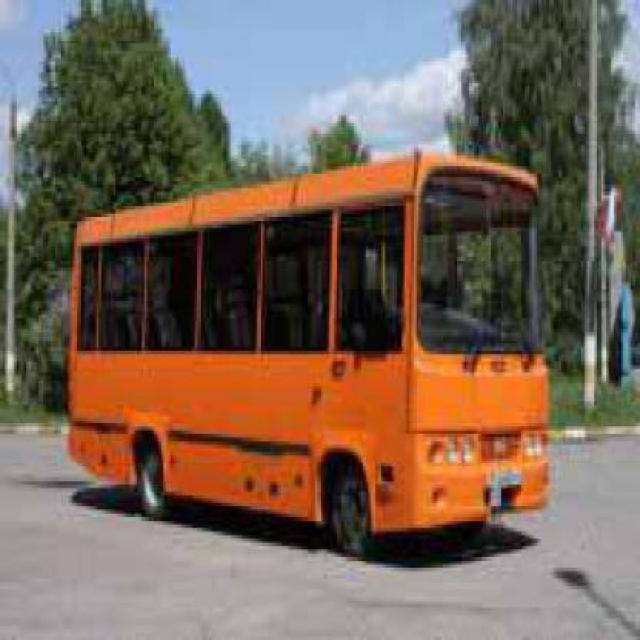bus: (68, 153, 551, 545)
